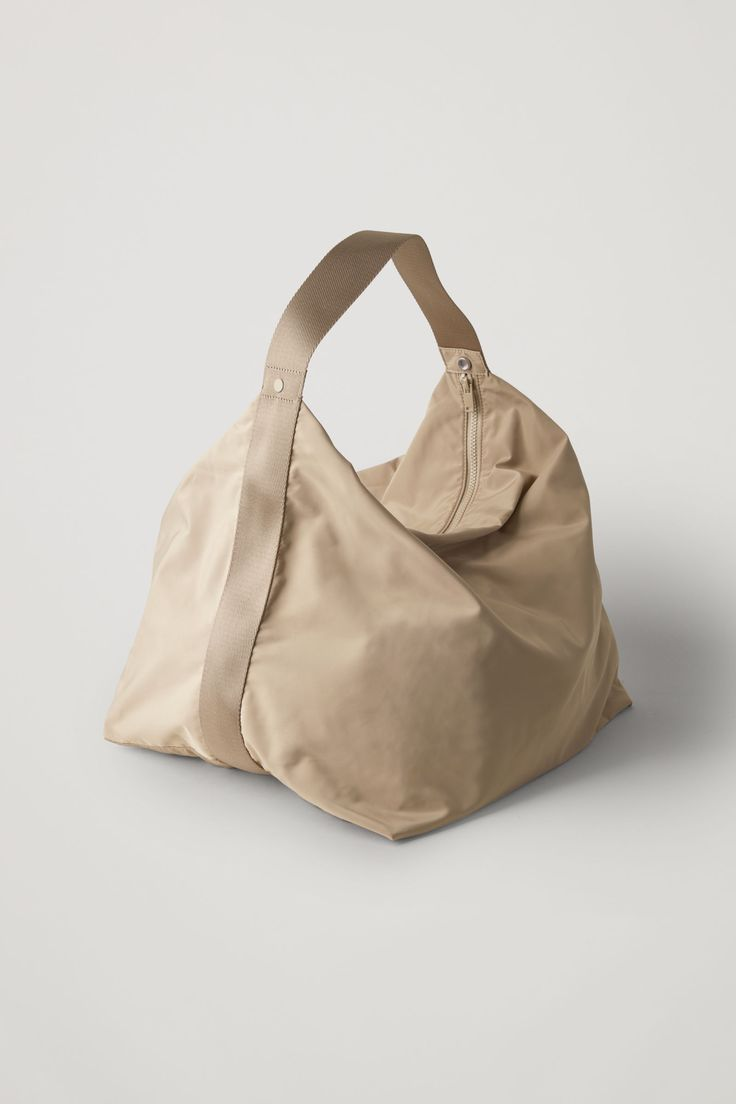nylon: (102, 349, 636, 844)
